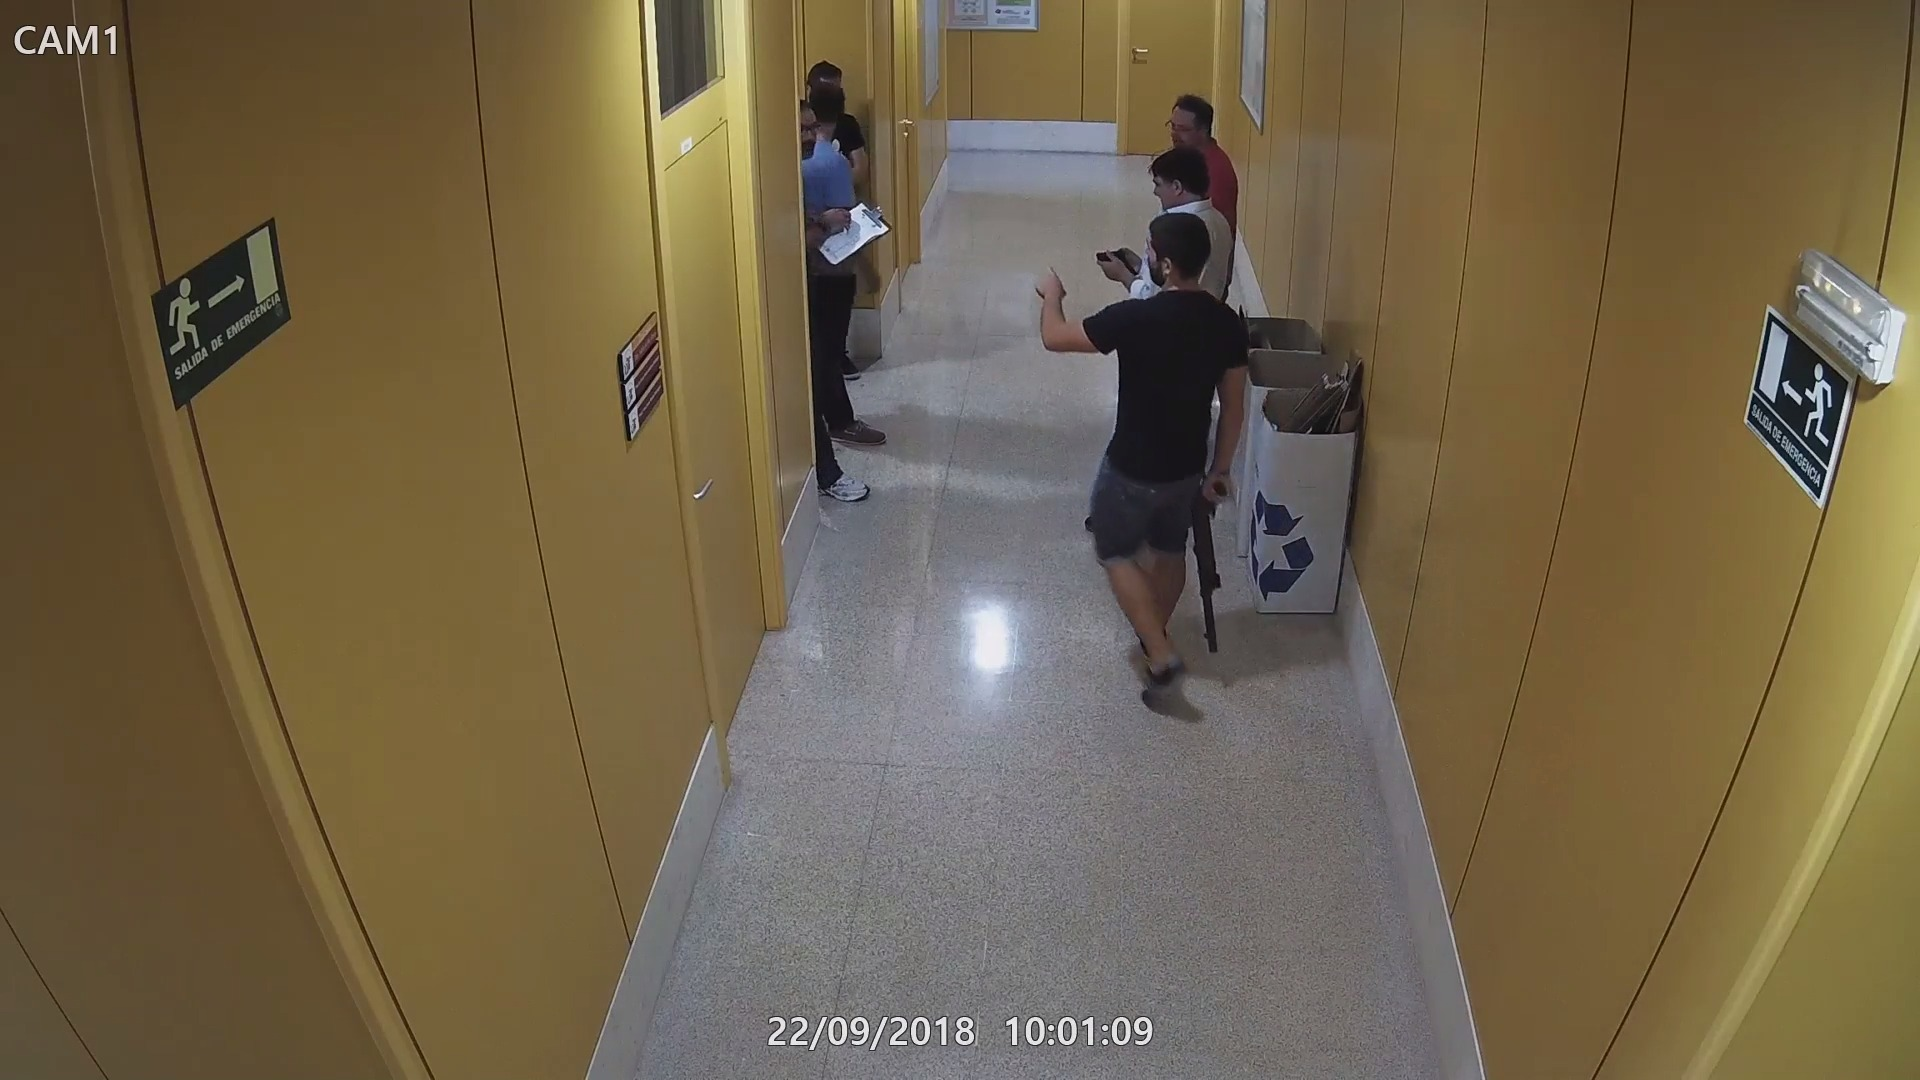Handgun: (1089, 249, 1141, 280)
Short_rifle: (1193, 473, 1229, 655)
